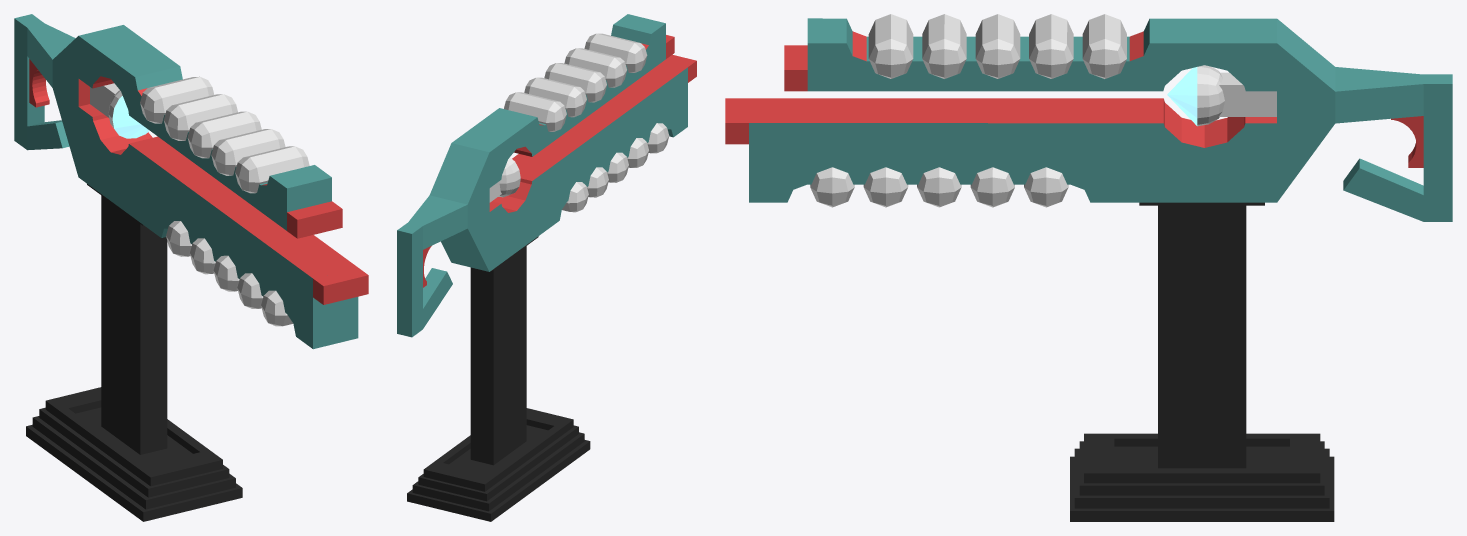
File: LaserGunOnBase.fbx
The picture shows the model from 3 angles, left to right: view 1: azimuth 30°, elevation 25°; view 2: azimuth 150°, elevation 25°; view 3: azimuth 270°, elevation 25°; orthographic projection. The views are drawn at different scales.
Parts seen in each view (by area): view 1: Lasergun_base; view 2: Lasergun_base; view 3: Lasergun_base.
Boxes of the visible parts, x1,y1,x2,y2 form: Lasergun_base: (14, 14, 368, 521); Lasergun_base: (397, 14, 696, 521); Lasergun_base: (725, 14, 1452, 521).
Bounding box in the file's own units: 0.2199 × 0.8807 × 1.24.
